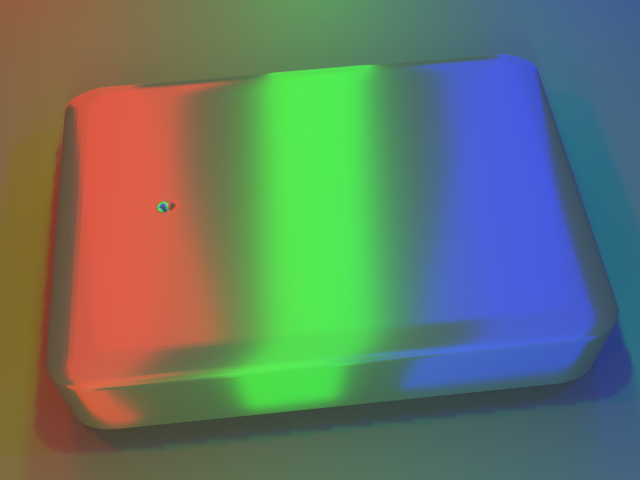dent: (130, 187, 170, 226)
